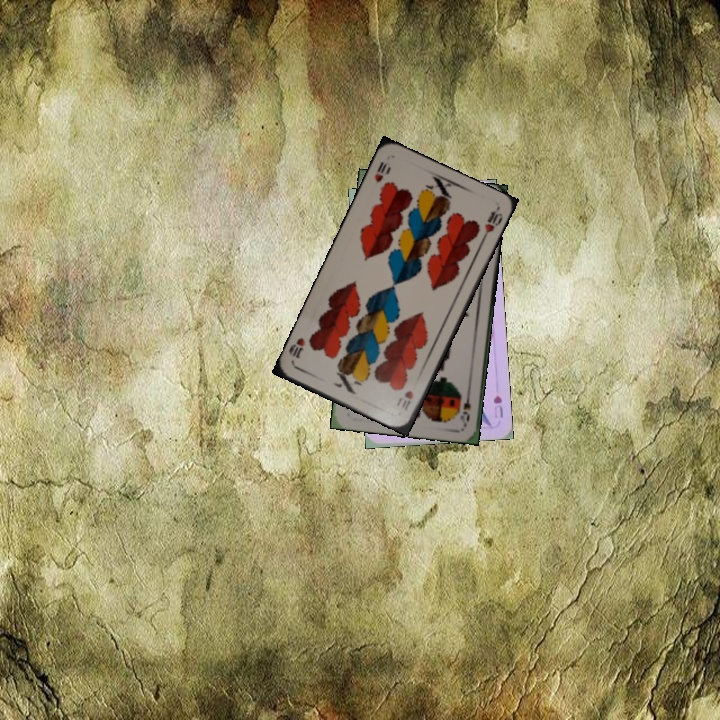H10: (370, 157, 393, 185), (397, 386, 416, 413)
HU: (489, 391, 505, 420)
SO: (456, 386, 473, 427)
